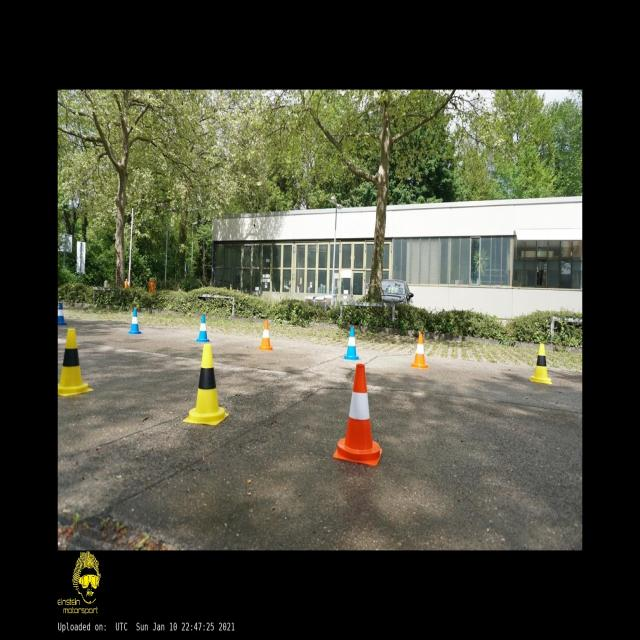blue_cone: (342, 326, 361, 361), (196, 315, 210, 342), (127, 310, 142, 334), (58, 303, 68, 325)
orange_cone: (332, 364, 382, 466), (411, 333, 428, 369), (259, 319, 273, 351)
yellow_cone: (183, 344, 229, 425), (58, 328, 93, 396), (530, 343, 552, 384)
